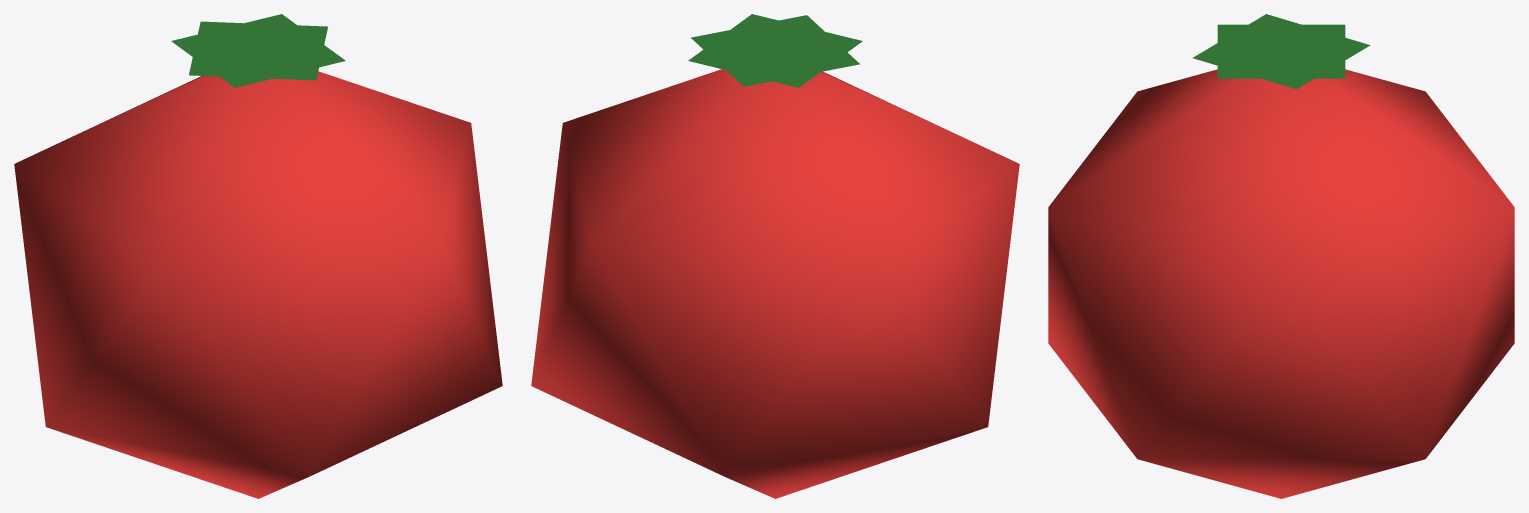
The model's file is tomatoe_product.glb.
The picture shows the model from 3 angles, left to right: view 1: azimuth 30°, elevation 25°; view 2: azimuth 150°, elevation 25°; view 3: azimuth 270°, elevation 25°; orthographic projection.
Visible parts, largest first — view 1: Icosphere, Plane, Plane.001; view 2: Icosphere, Plane, Plane.001; view 3: Icosphere, Plane, Plane.001.
Boxes of the visible parts, bbox=[...] form: Icosphere: bbox=[14, 71, 502, 498]; Plane: bbox=[171, 14, 345, 87]; Plane.001: bbox=[189, 21, 327, 80]; Icosphere: bbox=[531, 69, 1019, 498]; Plane: bbox=[688, 14, 862, 87]; Plane.001: bbox=[691, 15, 859, 86]; Icosphere: bbox=[1048, 69, 1514, 498]; Plane: bbox=[1217, 24, 1345, 78]; Plane.001: bbox=[1192, 14, 1370, 89].
Size of the model in its own units: 0.2683 by 0.27 by 0.2552.
